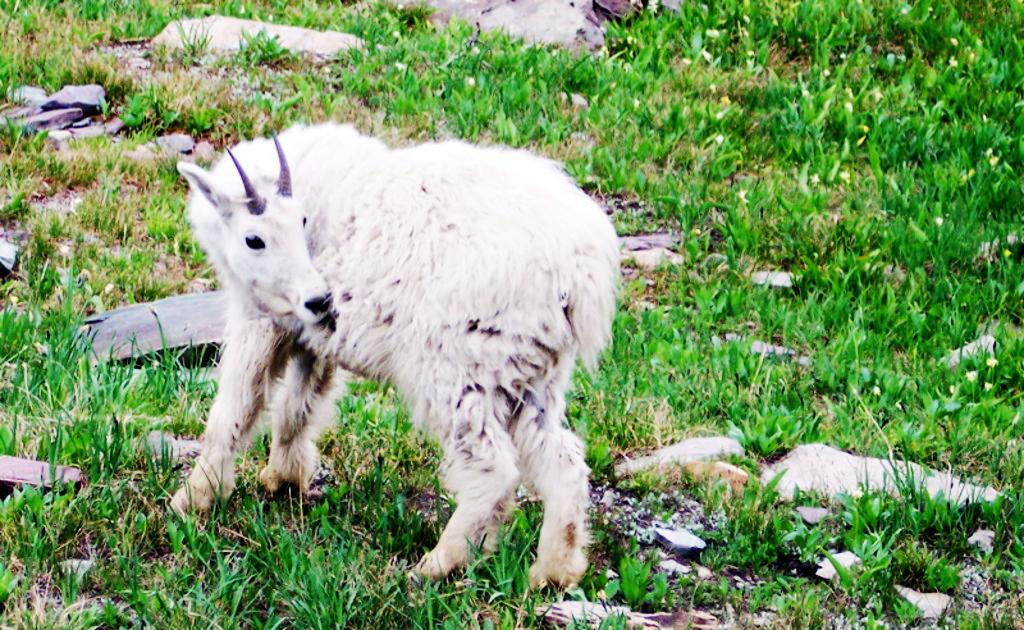Sheep: (169, 123, 623, 603)
